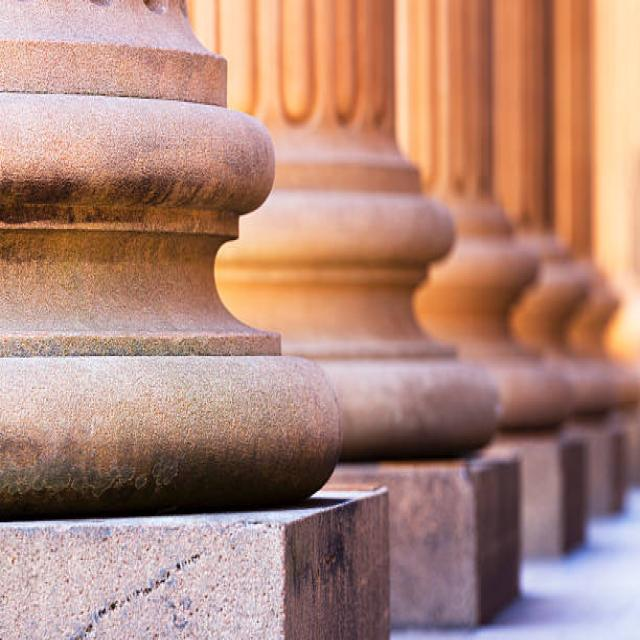Sedimentary: (1, 1, 347, 499), (1, 511, 392, 640)
